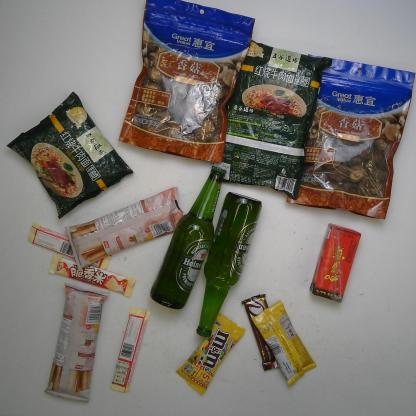Alcohol: (150, 166, 226, 310), (195, 192, 264, 338)
Chocolate: (176, 312, 247, 395), (251, 300, 316, 386), (22, 223, 113, 271), (47, 255, 137, 298), (109, 306, 152, 393), (242, 294, 284, 371)
Dessert: (64, 185, 187, 272), (41, 282, 110, 404)
Dried Food: (117, 0, 255, 164), (285, 53, 415, 221)
Drink: (310, 222, 361, 303)
Instant Noodles: (6, 92, 136, 220), (225, 37, 333, 134), (207, 104, 309, 199)
